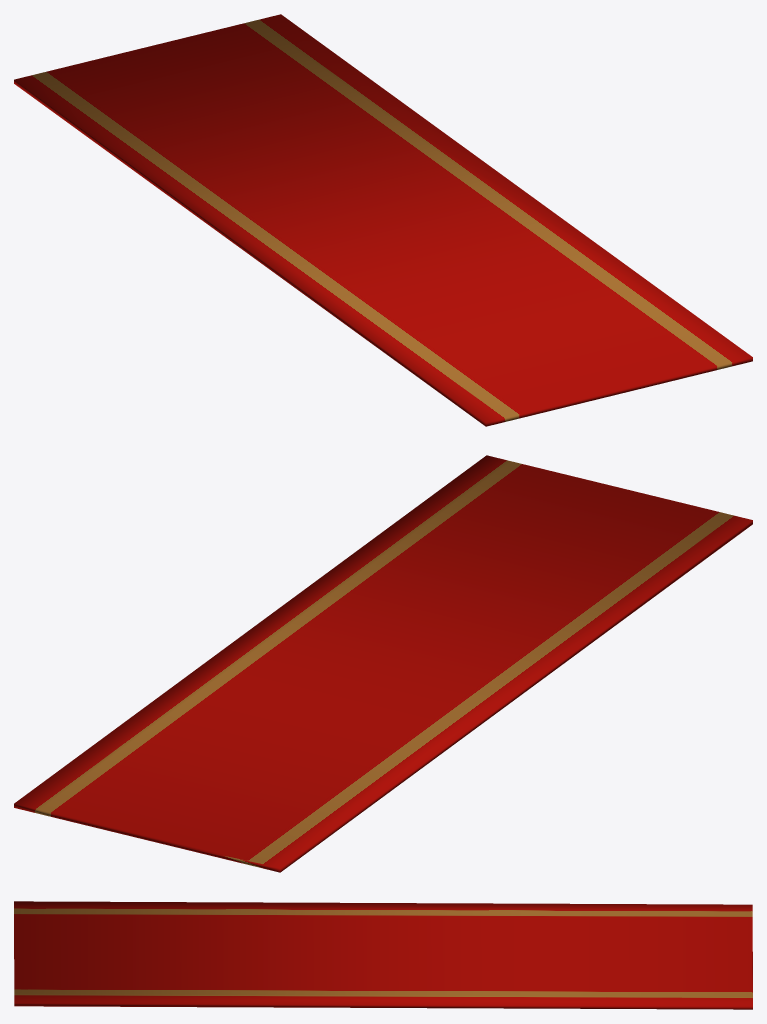
The model's file is carpet.fbx.
3 views of the same model, one above another, from view 1: azimuth 30°, elevation 25°; view 2: azimuth 150°, elevation 25°; view 3: azimuth 270°, elevation 25° (orthographic). The views are drawn at different scales.
Visible parts, largest first — view 1: carpet; view 2: carpet; view 3: carpet.
Part boxes in pixels (left/top/right/bottom): carpet: left=14, top=14, right=752, bottom=426; carpet: left=14, top=455, right=752, bottom=872; carpet: left=14, top=901, right=752, bottom=1009.
Size of the model in its own units: 171 by 4.73 by 521.
1 material, 1 textured.
